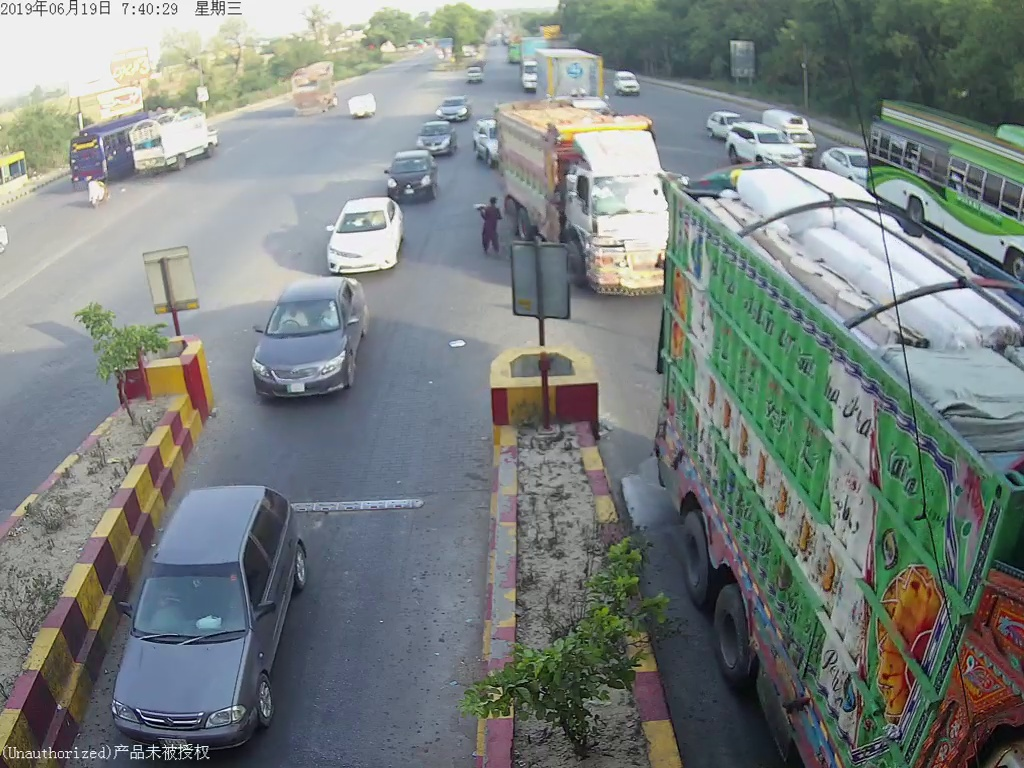Cat-1: (111, 483, 311, 727), (251, 273, 377, 405), (326, 198, 402, 276), (382, 149, 438, 196)
Cat-4: (499, 108, 663, 291)
